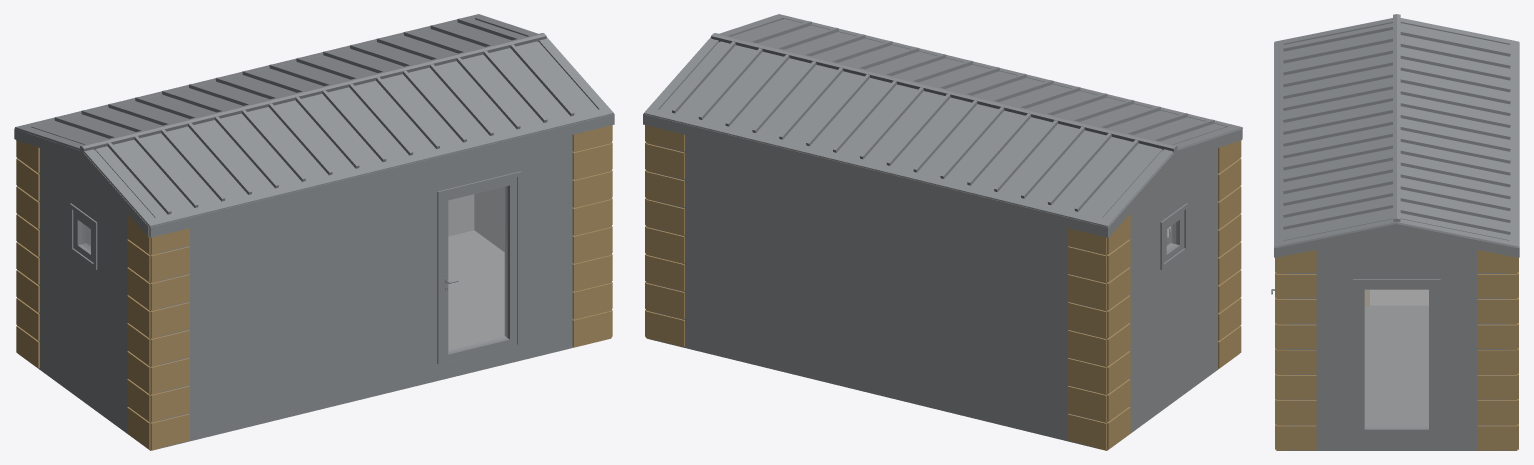
The model's file is marius.zaliamylia@gmail.fbx.
3 views of the same model, side by side, from view 1: azimuth 30°, elevation 25°; view 2: azimuth 150°, elevation 25°; view 3: azimuth 270°, elevation 25° (orthographic). The views are drawn at different scales.
Parts seen in each view (by area): view 1: IfcPlate/System Panel:Sandwich užbaigimas:3151862, IfcPlate/System Panel:Sandwich užbaigimas:3151870, IfcDoor/Durys išorinės:1000x2100x120 (dešininės):2523263, IfcBuildingElementProxy/Kampai Kvadratiniai - line based:Ru. (×2), IfcPlate/System Panel:Sandwich užbaigimas:3151854, IfcPlate/System Panel:Sandwich užbaigimas:3151846, IfcPlate/System Panel:Sandwich užbaigimas:3152453, IfcPlate/System Panel:Sandwich užbaigimas:3152444, IfcBuildingElementProxy/Kampai Kvadratiniai - line based:Rud, IfcPlate/System Panel:Sandwich užbaigimas:3151878, IfcCovering/Fascia:Skarda - Pilka - 25mm:3119931, IfcSlab/Floor:Sumustinis pilnas 145mm:2379064 (+41 smaller); view 2: IfcBuildingElementProxy/Kampai Kvadratiniai - line based:Ru. (×3), IfcPlate/System Panel:Sandwich užbaigimas:3155105, IfcPlate/System Panel:Sandwich užbaigimas:3155107, IfcPlate/System Panel:Sandwich užbaigimas:3155103, IfcPlate/System Panel:Sandwich užbaigimas:3155109, IfcPlate/System Panel:Sandwich užbaigimas:3155100, IfcPlate/System Panel:Sandwich užbaigimas:3152444, IfcPlate/System Panel:Sandwich užbaigimas:3152453, IfcCovering/Fascia:Skarda - Pilka - 25mm:3119931, IfcRoof/Roofs 2:Roofs 1:3123822, IfcBuildingElementProxy/Kampai Kvadratiniai - line based:Ru, IfcSlab/Kraigas:Kraigas:3148255:1 (+36 smaller); view 3: IfcBuildingElementProxy/Kampai Kvadratiniai - line based:Ru. (×4), IfcMember/Rectangular Mullion:Stogo Skardos Iškilimas 40 x.0 (×30), IfcWindow/Langai (Akrusta):1000x2100x120 (dešininis):2520826, IfcPlate/System Panel:Sandwich užbaigimas:3155125, IfcPlate/System Panel:Sandwich užbaigimas:3155128, IfcSlab/Floor:Sumustinis pilnas 145mm:2379064, IfcRoof/Roofs 2:Roofs 1:3123822, IfcRoof/Roofs 1:Roofs 1:3123770, IfcCovering/Fascia:Skarda - Pilka - 25mm:3119931, IfcPlate/System Panel:Sandwich užbaigimas:3155130, IfcSlab/Kraigas:Kraigas:3148255:1, IfcPlate/System Panel:Stogo Skarda - Pilka:3121863 (+37 smaller).
Boxes of the visible parts, <box> form: IfcPlate/System Panel:Sandwich užbaigimas:3151862: <box>304,179,390,413</box>; IfcPlate/System Panel:Sandwich užbaigimas:3151870: <box>217,200,303,434</box>; IfcDoor/Durys išorinės:1000x2100x120 (dešininės):2523263: <box>437,171,521,364</box>; IfcBuildingElementProxy/Kampai Kvadratiniai - line based:Ru. (×2): <box>16,125,611,369</box>; IfcPlate/System Panel:Sandwich užbaigimas:3151854: <box>391,158,476,392</box>; IfcPlate/System Panel:Sandwich užbaigimas:3151846: <box>477,137,563,370</box>; IfcPlate/System Panel:Sandwich užbaigimas:3152453: <box>34,148,83,401</box>; IfcPlate/System Panel:Sandwich užbaigimas:3152444: <box>84,165,133,433</box>; IfcBuildingElementProxy/Kampai Kvadratiniai - line based:Rud: <box>150,228,189,450</box>; IfcPlate/System Panel:Sandwich užbaigimas:3151878: <box>160,221,216,448</box>; IfcCovering/Fascia:Skarda - Pilka - 25mm:3119931: <box>14,114,614,237</box>; IfcSlab/Floor:Sumustinis pilnas 145mm:2379064: <box>448,230,504,348</box>; IfcBuildingElementProxy/Kampai Kvadratiniai - line based:Ru. (×3): <box>645,125,1130,450</box>; IfcPlate/System Panel:Sandwich užbaigimas:3155105: <box>838,172,924,406</box>; IfcPlate/System Panel:Sandwich užbaigimas:3155107: <box>751,151,837,385</box>; IfcPlate/System Panel:Sandwich užbaigimas:3155103: <box>925,193,1010,427</box>; IfcPlate/System Panel:Sandwich užbaigimas:3155109: <box>665,135,750,363</box>; IfcPlate/System Panel:Sandwich užbaigimas:3155100: <box>1011,214,1097,448</box>; IfcPlate/System Panel:Sandwich užbaigimas:3152444: <box>1173,148,1222,401</box>; IfcPlate/System Panel:Sandwich užbaigimas:3152453: <box>1124,165,1173,434</box>; IfcCovering/Fascia:Skarda - Pilka - 25mm:3119931: <box>643,114,1242,237</box>; IfcRoof/Roofs 2:Roofs 1:3123822: <box>643,37,1173,227</box>; IfcBuildingElementProxy/Kampai Kvadratiniai - line based:Ru: <box>1218,140,1241,369</box>; IfcSlab/Kraigas:Kraigas:3148255:1: <box>711,33,1177,152</box>; IfcBuildingElementProxy/Kampai Kvadratiniai - line based:Ru. (×4): <box>1275,250,1518,450</box>; IfcMember/Rectangular Mullion:Stogo Skardos Iškilimas 40 x.0 (×30): <box>1283,25,1510,234</box>; IfcWindow/Langai (Akrusta):1000x2100x120 (dešininis):2520826: <box>1353,279,1440,435</box>; IfcPlate/System Panel:Sandwich užbaigimas:3155125: <box>1417,238,1507,450</box>; IfcPlate/System Panel:Sandwich užbaigimas:3155128: <box>1327,233,1416,450</box>; IfcSlab/Floor:Sumustinis pilnas 145mm:2379064: <box>1364,305,1428,425</box>; IfcRoof/Roofs 2:Roofs 1:3123822: <box>1397,18,1519,247</box>; IfcRoof/Roofs 1:Roofs 1:3123770: <box>1274,18,1396,247</box>; IfcCovering/Fascia:Skarda - Pilka - 25mm:3119931: <box>1274,42,1519,257</box>; IfcPlate/System Panel:Sandwich užbaigimas:3155130: <box>1286,248,1326,450</box>; IfcSlab/Kraigas:Kraigas:3148255:1: <box>1393,14,1400,222</box>; IfcPlate/System Panel:Stogo Skarda - Pilka:3121863: <box>1283,208,1392,240</box>.
Size of the model in its own units: 606 by 319 by 309.
